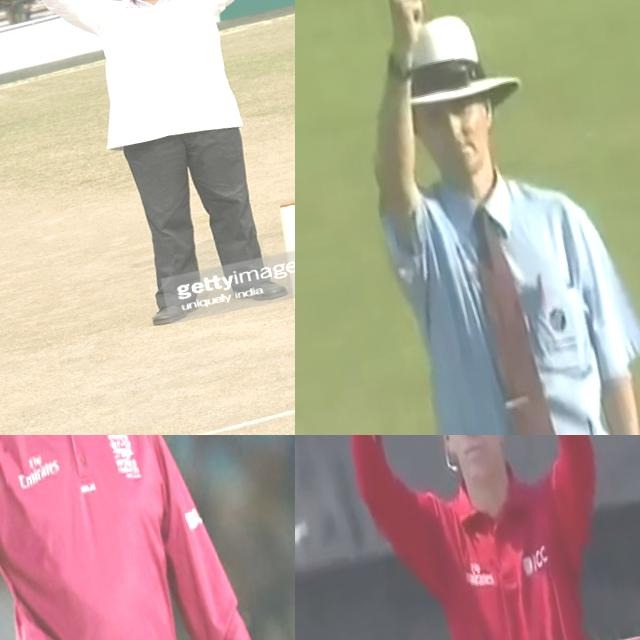No_Ball: (0, 435, 288, 640)
Out: (316, 0, 640, 435)
Six: (0, 0, 295, 343), (300, 435, 635, 640)
